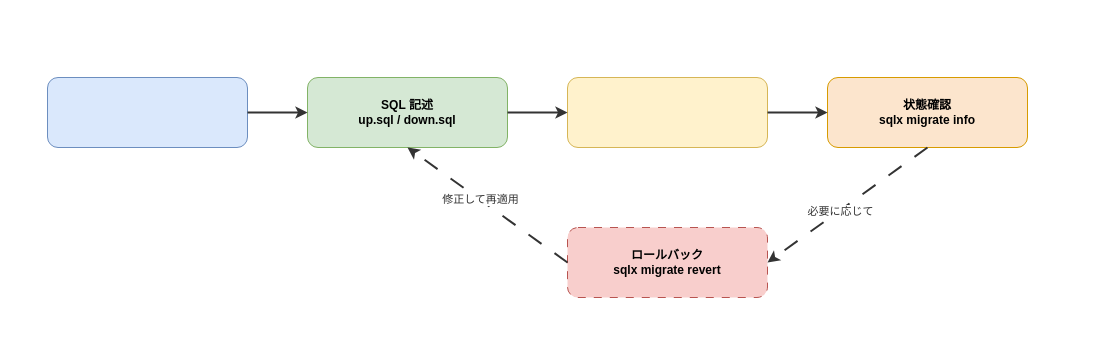
Image size: 1094x344. Some labels were removed from this diagram. The shapes that lost their labels are listed below. From the top down, each one's centre as x and y in pixels, then its label:
At [147,112]: "マイグレーション作成 sqlx migrate add".
At [667,112]: "マイグレーション適用 sqlx migrate run".
